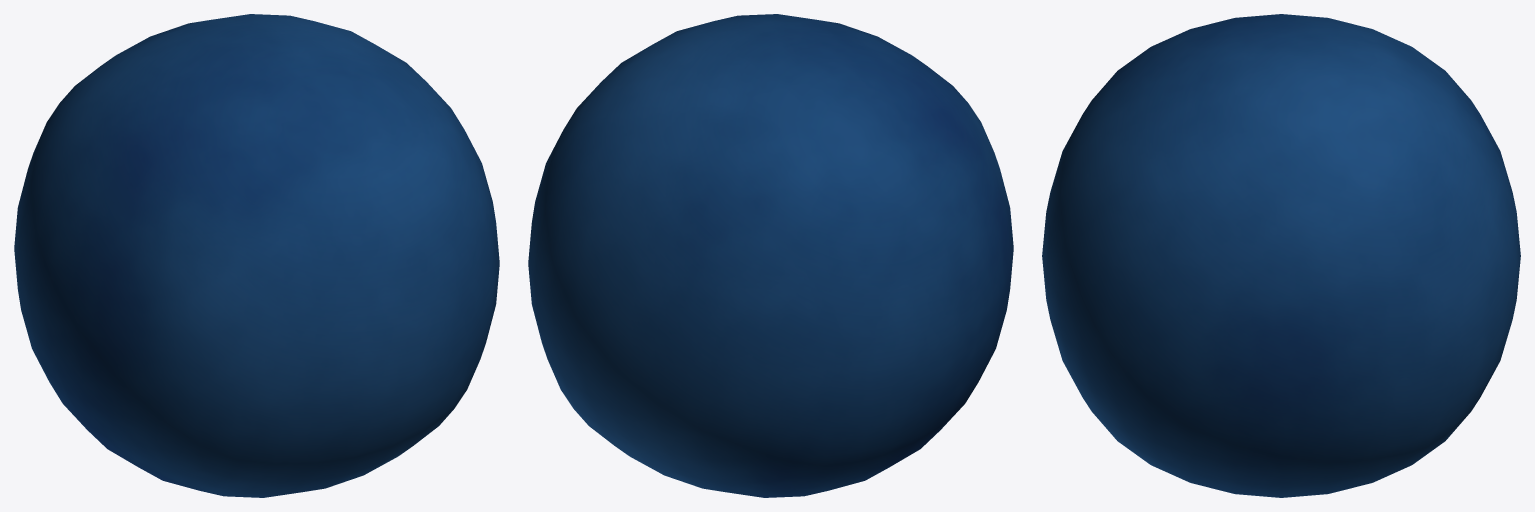
Rendered from Planet_Water.fbx.
3 views of the same model, side by side, from view 1: azimuth 30°, elevation 25°; view 2: azimuth 150°, elevation 25°; view 3: azimuth 270°, elevation 25° (orthographic).
Parts seen in each view (by area): view 1: Cube; view 2: Cube; view 3: Cube.
Part boxes in pixels (left/top/right/bottom): Cube: left=14, top=14, right=499, bottom=497; Cube: left=528, top=14, right=1013, bottom=497; Cube: left=1042, top=14, right=1520, bottom=497.
Size of the model in its own units: 5.94 by 5.94 by 5.94.
Materials: 1 (1 with a texture image).
